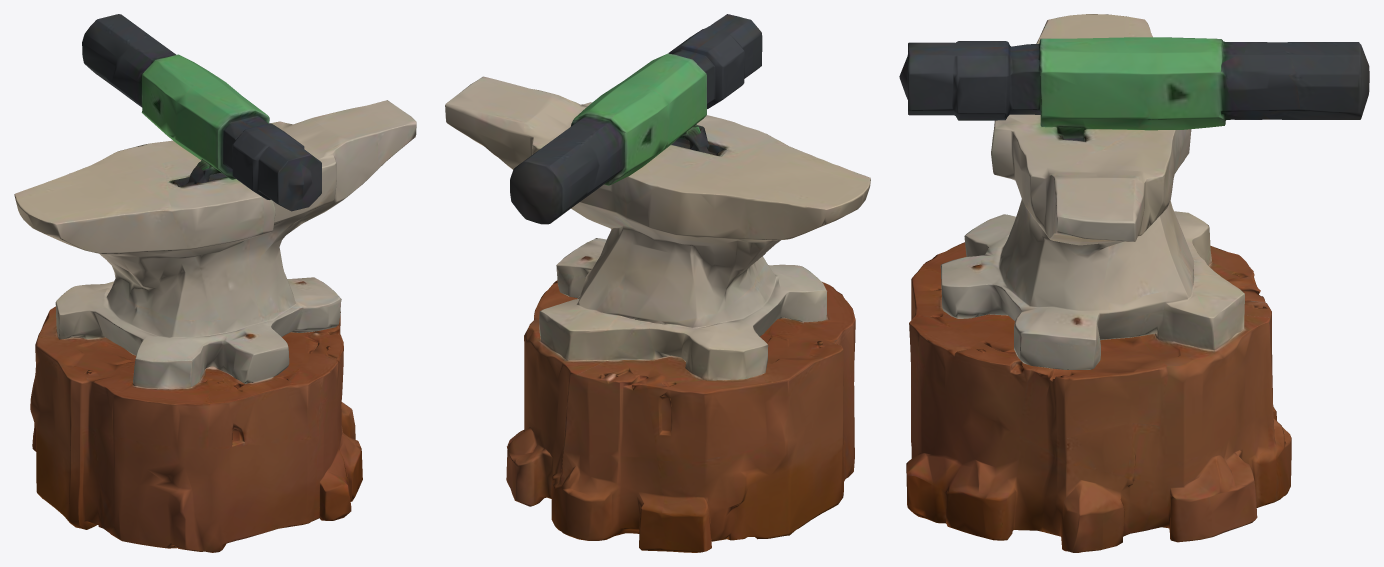
File: anvil.glb
The picture shows the model from 3 angles, left to right: view 1: azimuth 30°, elevation 25°; view 2: azimuth 150°, elevation 25°; view 3: azimuth 270°, elevation 25°; orthographic projection. The views are drawn at different scales.
Visible parts, largest first — view 1: tripo_node_494ad387-184b-4979-945f-9fa2555ae30a; view 2: tripo_node_494ad387-184b-4979-945f-9fa2555ae30a; view 3: tripo_node_494ad387-184b-4979-945f-9fa2555ae30a.
Part boxes in pixels (<box>): tripo_node_494ad387-184b-4979-945f-9fa2555ae30a: <box>14,14,416,552</box>; tripo_node_494ad387-184b-4979-945f-9fa2555ae30a: <box>445,14,870,552</box>; tripo_node_494ad387-184b-4979-945f-9fa2555ae30a: <box>899,14,1369,552</box>.
Bounding box in the file's own units: 0.9979 × 1 × 0.9114.
1 material, 1 textured.
